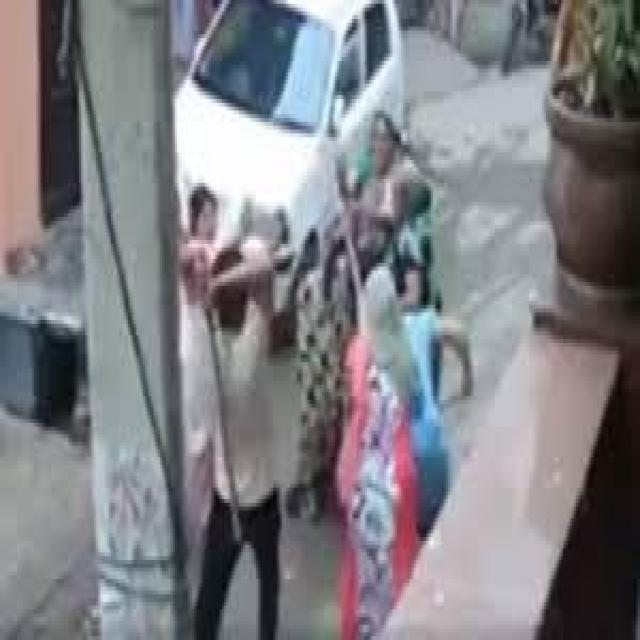fight: (175, 116, 461, 585)
